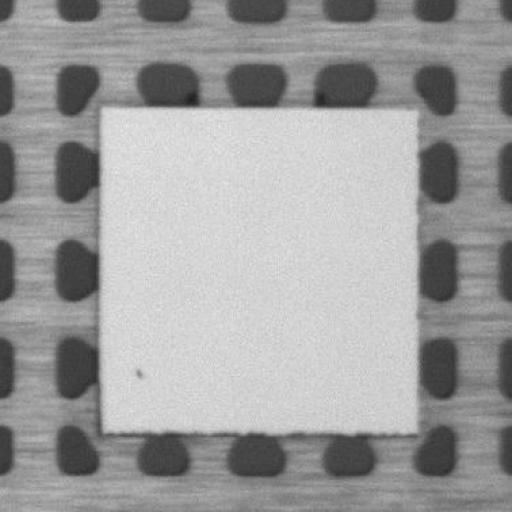DIE_INK: (132, 364, 146, 382)
